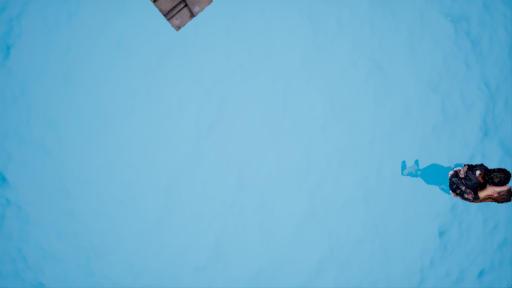person: (393, 153, 512, 220)
